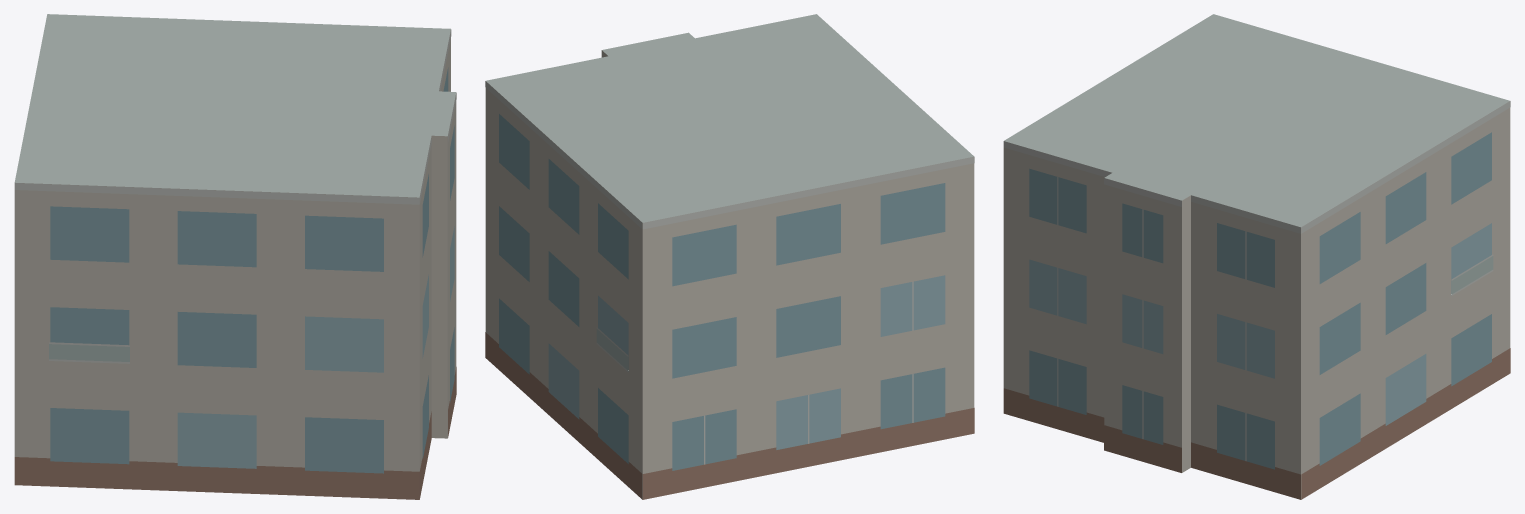
File: survey-upis-32779240.glb
3 views of the same model, side by side, from view 1: azimuth 30°, elevation 25°; view 2: azimuth 150°, elevation 25°; view 3: azimuth 270°, elevation 25° (orthographic). The views are drawn at different scales.
Visible parts, largest first — view 1: survey-upis-32779240.tmp; view 2: survey-upis-32779240.tmp; view 3: survey-upis-32779240.tmp.
Boxes of the visible parts, x1,y1,x2,y2 form: survey-upis-32779240.tmp: (14, 14, 456, 499); survey-upis-32779240.tmp: (485, 14, 974, 499); survey-upis-32779240.tmp: (1003, 14, 1510, 499).
Size of the model in its own units: 17.14 by 10.2 by 17.2.
